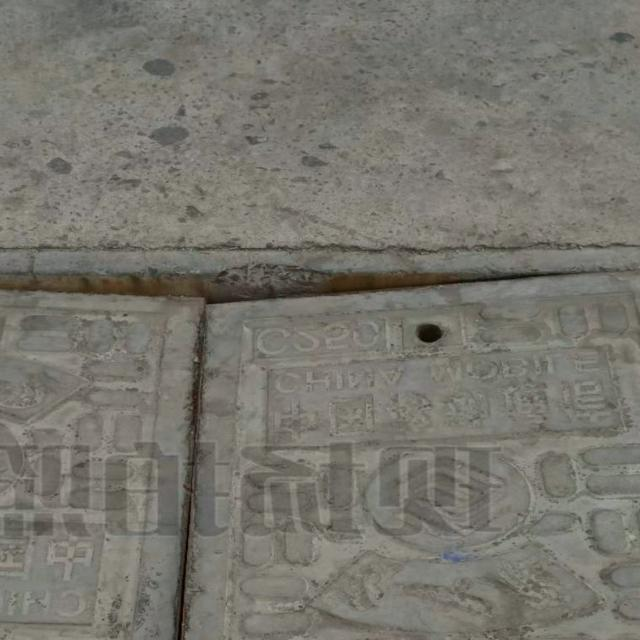uncovered: (0, 235, 640, 640)
